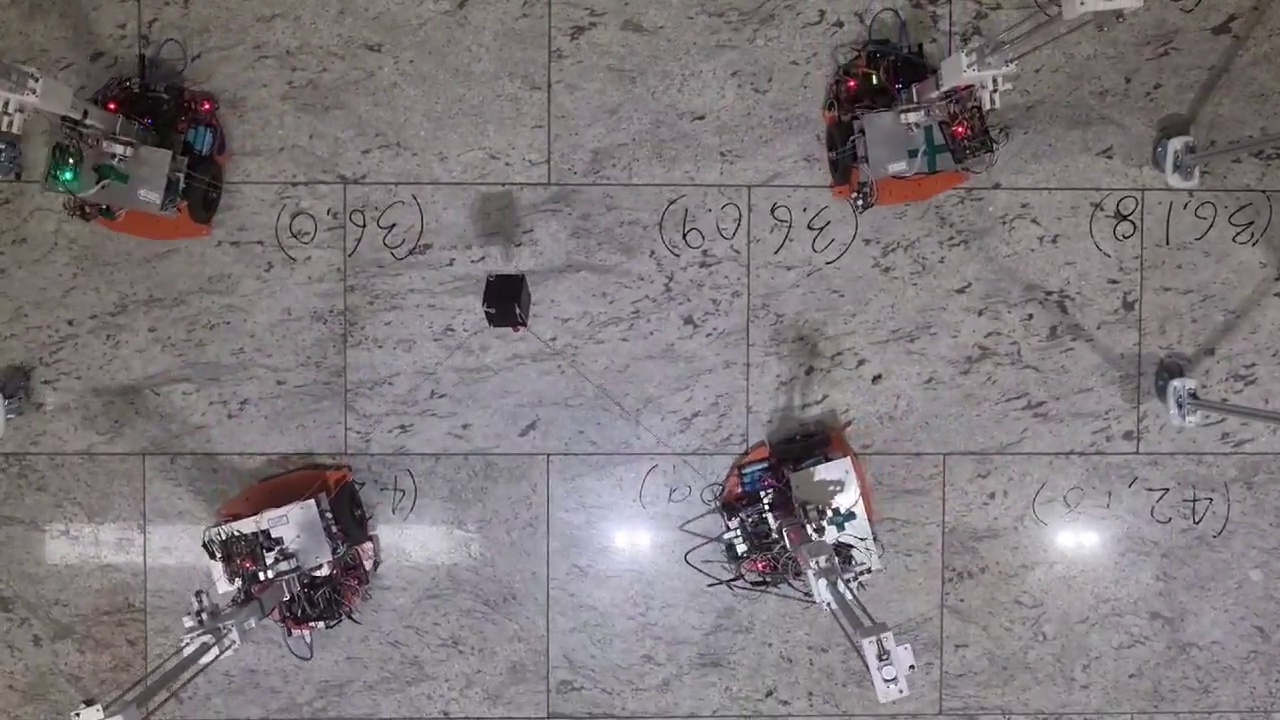e0: (482, 275, 532, 326)
r1: (772, 429, 880, 588)
r2: (825, 100, 994, 182)
r3: (51, 148, 224, 224)
r4: (201, 482, 369, 581)
y_+_axis_vector: (749, 186, 1143, 190)
y_-_axis_vector: (345, 184, 749, 186)
